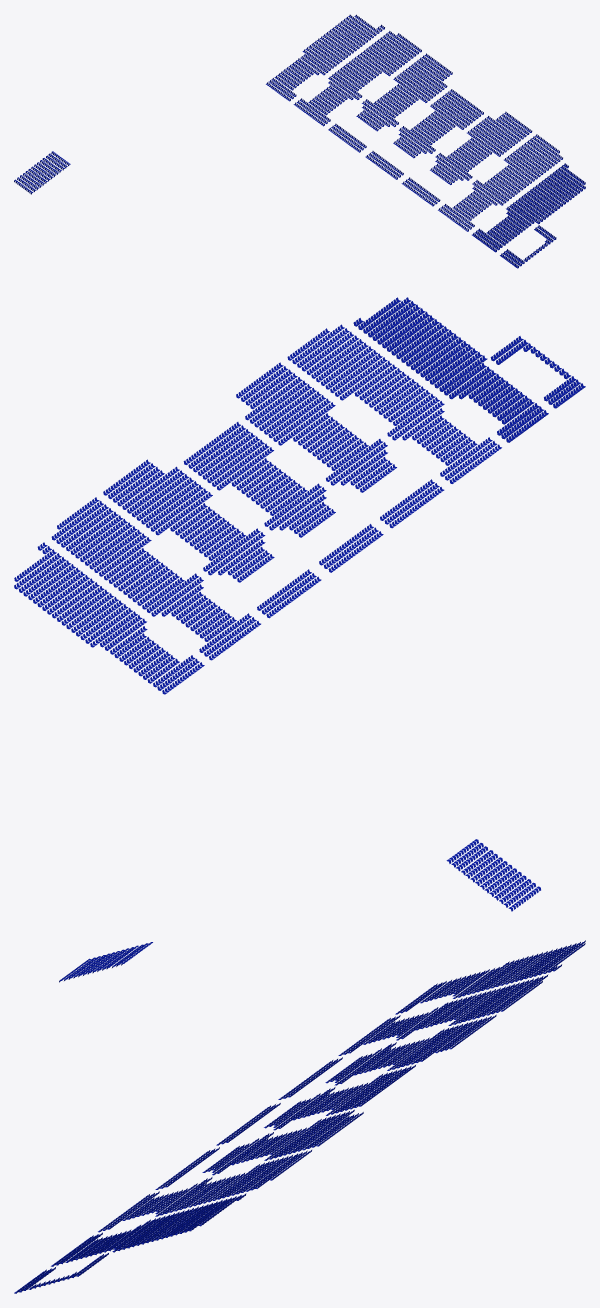
File: ArquibancadaCadeiras.FBX
The picture shows the model from 3 angles, top to bottom: view 1: azimuth 30°, elevation 25°; view 2: azimuth 150°, elevation 25°; view 3: azimuth 330°, elevation 25°; orthographic projection. The views are drawn at different scales.
Parts seen in each view (by area): view 1: Cadeiras07, Cadeiras03, Cadeiras04, Cadeiras06, Cadeiras02, Cadeiras08, Cadeiras05, Cadeiras09, Cadeiras01; view 2: Cadeiras03, Cadeiras07, Cadeiras02, Cadeiras06, Cadeiras04, Cadeiras08, Cadeiras05, Cadeiras09, Cadeiras01; view 3: Cadeiras07, Cadeiras03, Cadeiras04, Cadeiras06, Cadeiras02, Cadeiras08, Cadeiras05, Cadeiras09, Cadeiras01.
Boxes of the visible parts, x1=… form: Cadeiras07: x1=293, y1=31, x2=421, y2=126; Cadeiras03: x1=438, y1=134, x2=562, y2=231; Cadeiras04: x1=401, y1=111, x2=532, y2=206; Cadeiras06: x1=328, y1=53, x2=452, y2=152; Cadeiras02: x1=472, y1=163, x2=585, y2=252; Cadeiras08: x1=266, y1=14, x2=384, y2=101; Cadeiras05: x1=365, y1=89, x2=483, y2=179; Cadeiras09: x1=14, y1=151, x2=70, y2=194; Cadeiras01: x1=500, y1=225, x2=556, y2=268; Cadeiras03: x1=287, y1=324, x2=501, y2=483; Cadeiras07: x1=51, y1=497, x2=260, y2=660; Cadeiras02: x1=353, y1=297, x2=548, y2=442; Cadeiras06: x1=103, y1=459, x2=321, y2=618; Cadeiras04: x1=236, y1=362, x2=444, y2=528; Cadeiras08: x1=14, y1=542, x2=204, y2=694; Cadeiras05: x1=183, y1=422, x2=383, y2=572; Cadeiras09: x1=446, y1=839, x2=540, y2=911; Cadeiras01: x1=490, y1=336, x2=585, y2=408; Cadeiras07: x1=338, y1=974, x2=548, y2=1055; Cadeiras03: x1=98, y1=1150, x2=311, y2=1232; Cadeiras04: x1=155, y1=1109, x2=363, y2=1189; Cadeiras06: x1=278, y1=1014, x2=496, y2=1099; Cadeiras02: x1=51, y1=1193, x2=246, y2=1266; Cadeiras08: x1=395, y1=940, x2=585, y2=1014; Cadeiras05: x1=216, y1=1065, x2=415, y2=1145; Cadeiras09: x1=59, y1=942, x2=152, y2=982; Cadeiras01: x1=14, y1=1253, x2=108, y2=1293.
Bounding box in the file's own units: 77.88 × 24.88 × 113.
